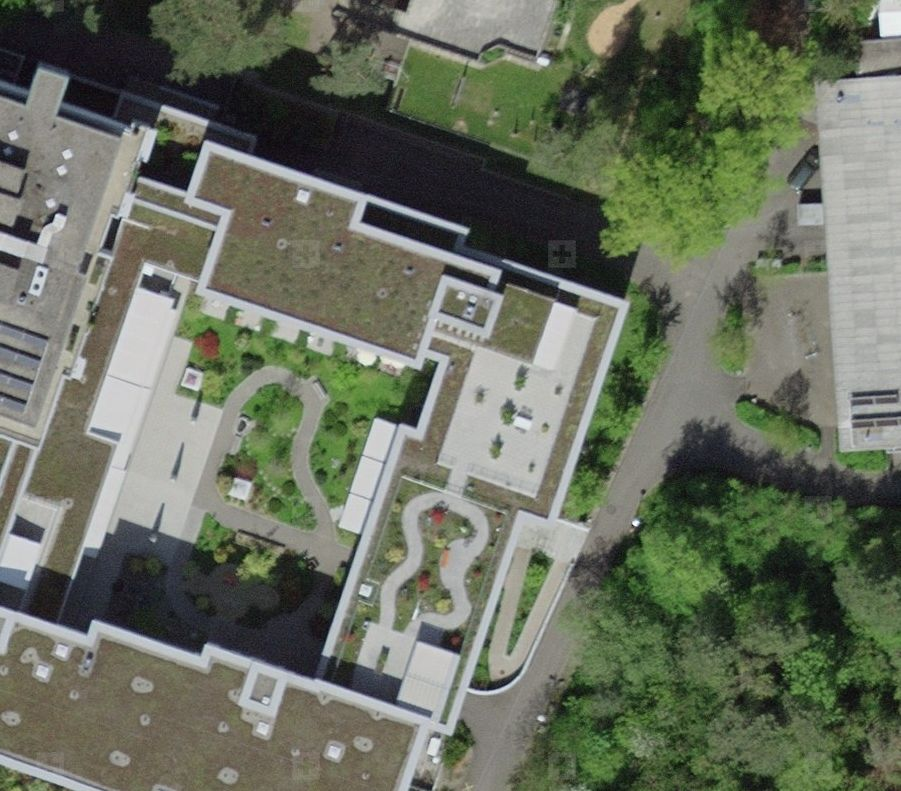solar: (1, 305, 58, 428), (838, 380, 901, 441)
